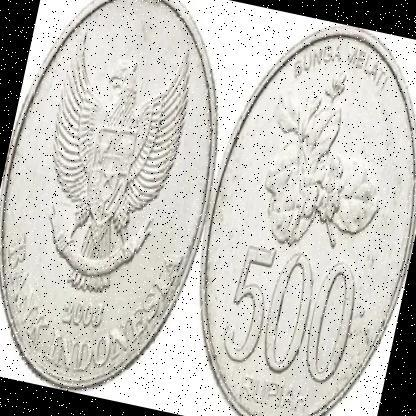coin_500_e2003: (0, 0, 218, 394), (200, 25, 416, 416)
